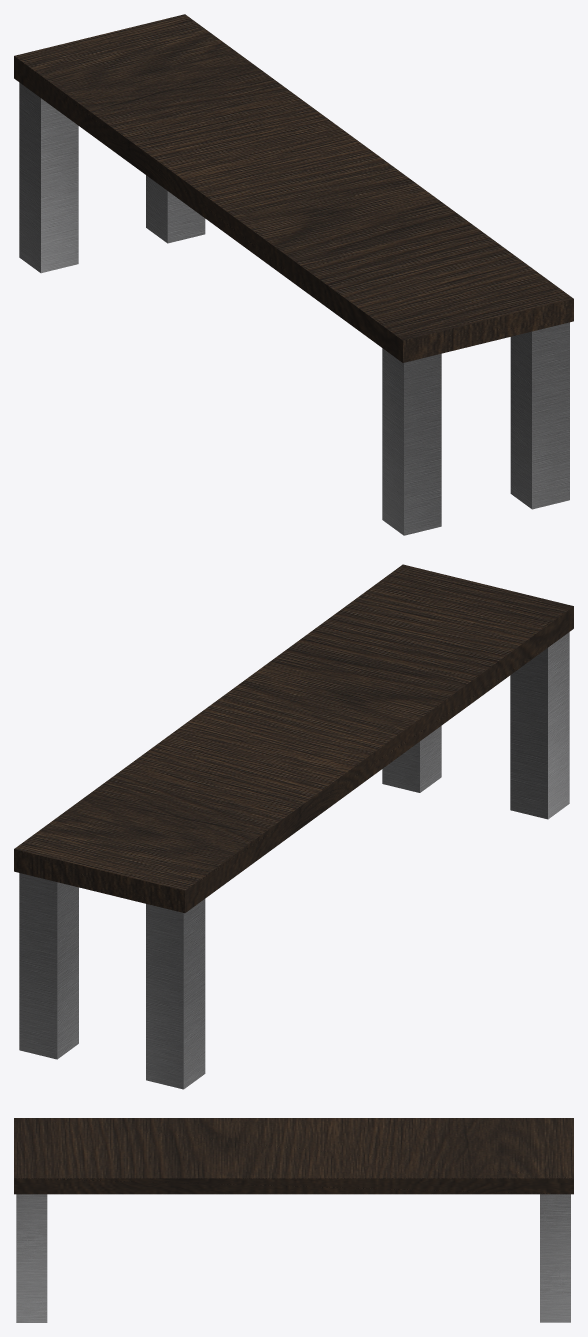
File: LongTable.glb
3 views of the same model, one above another, from view 1: azimuth 30°, elevation 25°; view 2: azimuth 150°, elevation 25°; view 3: azimuth 270°, elevation 25° (orthographic). The views are drawn at different scales.
Parts seen in each view (by area): view 1: TableTop, Legs; view 2: TableTop, Legs; view 3: TableTop, Legs.
Boxes of the visible parts, bbox=[...] form: TableTop: bbox=[14, 14, 573, 362]; Legs: bbox=[19, 82, 569, 535]; TableTop: bbox=[14, 564, 573, 913]; Legs: bbox=[19, 632, 569, 1089]; TableTop: bbox=[14, 1118, 573, 1194]; Legs: bbox=[16, 1194, 570, 1322].
Size of the model in its own units: 2 by 2.26 by 7.87.
2 materials, 2 textured.
